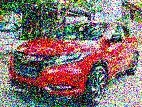car: (8, 19, 139, 106)
